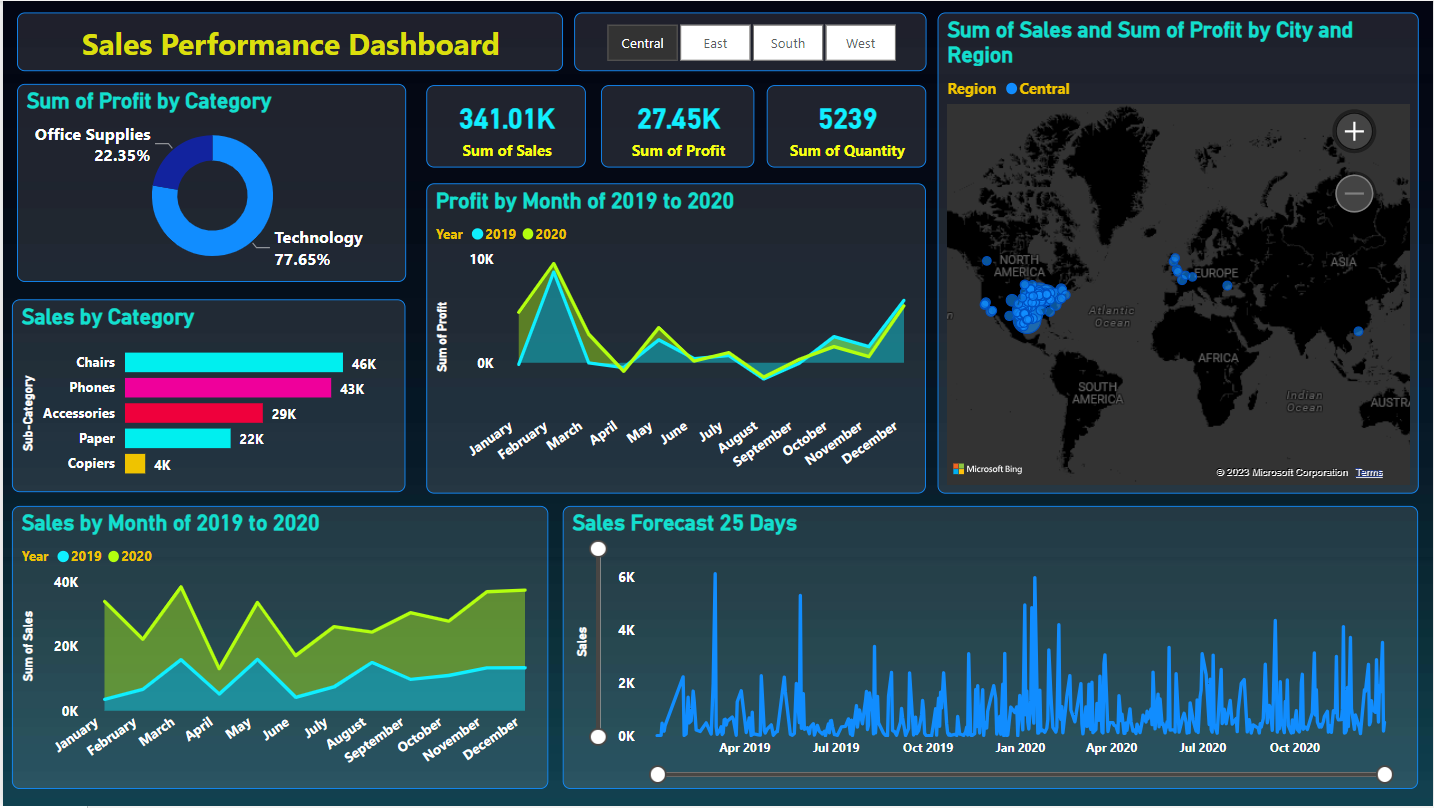

The page's visual inventory and layout, read from the dashboard file:
{"tool":"powerbi","page":{"name":"Page 1","canvas":[1280,720],"ordinal":0},"visuals":[{"type":"clusteredBarChart","title":"Sales by Category","fields":{"Category":["SuperStore_Sales_Dataset.Sub-Category"],"Y":["Sum(SuperStore_Sales_Dataset.Sales)"]},"box":[8.5,267.5,352.4,172.7],"z":0},{"type":"stackedAreaChart","title":"Profit by Month of 2019 to 2020","fields":{"Category":["SuperStore_Sales_Dataset.Order Date.Variation.Date Hierarchy.Month","SuperStore_Sales_Dataset.Order Date.Variation.Date Hierarchy.Day"],"Series":["SuperStore_Sales_Dataset.Order Date.Variation.Date Hierarchy.Year"],"Y":["Sum(SuperStore_Sales_Dataset.Profit)"]},"box":[379.3,162.8,447.3,277.4],"z":1000},{"type":"stackedAreaChart","title":"Sales by Month of 2019 to 2020","fields":{"Category":["SuperStore_Sales_Dataset.Order Date.Variation.Date Hierarchy.Month","SuperStore_Sales_Dataset.Order Date.Variation.Date Hierarchy.Day"],"Series":["SuperStore_Sales_Dataset.Order Date.Variation.Date Hierarchy.Year"],"Y":["Sum(SuperStore_Sales_Dataset.Sales)"]},"box":[8.5,451.5,479.8,253.4],"z":2000},{"type":"map","fields":{"Category":["SuperStore_Sales_Dataset.City"],"Size":["Sum(SuperStore_Sales_Dataset.Sales)"],"Series":["SuperStore_Sales_Dataset.Region"]},"box":[836.5,9.9,430.3,430.3],"z":3000},{"type":"donutChart","fields":{"Y":["Sum(SuperStore_Sales_Dataset.Profit)"],"Category":["SuperStore_Sales_Dataset.Category"]},"box":[12.7,73.6,348.2,176.9],"z":4000},{"type":"textbox","box":[12.7,9.9,488.3,52.4],"z":5000},{"type":"slicer","fields":{"Values":["SuperStore_Sales_Dataset.Region"]},"box":[511,9.9,315.6,52.4],"z":6000},{"type":"card","fields":{"Values":["Sum(SuperStore_Sales_Dataset.Sales)"]},"box":[379.3,75,143,73.6],"z":7000},{"type":"card","fields":{"Values":["Sum(SuperStore_Sales_Dataset.Profit)"]},"box":[535,75,137.3,73.6],"z":8000},{"type":"card","fields":{"Values":["Sum(SuperStore_Sales_Dataset.Quantity)"]},"box":[683.7,75,143,73.6],"z":9000},{"type":"lineChart","title":"Sales Forecast 25 Days","fields":{"Category":["SuperStore_Sales_Dataset.Order Date"],"Y":["Sum(SuperStore_Sales_Dataset.Sales)"]},"box":[500.9,451.8,765.6,253.3],"z":10000}]}

Visuals, with their boxes in screenshot pixels (x1, y1, x2, y2), scaled from the page's 1280x720 canvas onto the 1434x808 screenshot:
"Sales by Category" clusteredBarChart: BBox(10, 300, 404, 494)
"Profit by Month of 2019 to 2020" stackedAreaChart: BBox(425, 183, 926, 494)
"Sales by Month of 2019 to 2020" stackedAreaChart: BBox(10, 507, 547, 791)
map - SuperStore_Sales_Dataset.City x Sum(SuperStore_Sales_Dataset.Sales): BBox(937, 11, 1419, 494)
donutChart - Sum(SuperStore_Sales_Dataset.Profit) x SuperStore_Sales_Dataset.Category: BBox(14, 83, 404, 281)
textbox: BBox(14, 11, 561, 70)
slicer - SuperStore_Sales_Dataset.Region: BBox(572, 11, 926, 70)
card - Sum(SuperStore_Sales_Dataset.Sales): BBox(425, 84, 585, 167)
card - Sum(SuperStore_Sales_Dataset.Profit): BBox(599, 84, 753, 167)
card - Sum(SuperStore_Sales_Dataset.Quantity): BBox(766, 84, 926, 167)
"Sales Forecast 25 Days" lineChart: BBox(561, 507, 1419, 791)
